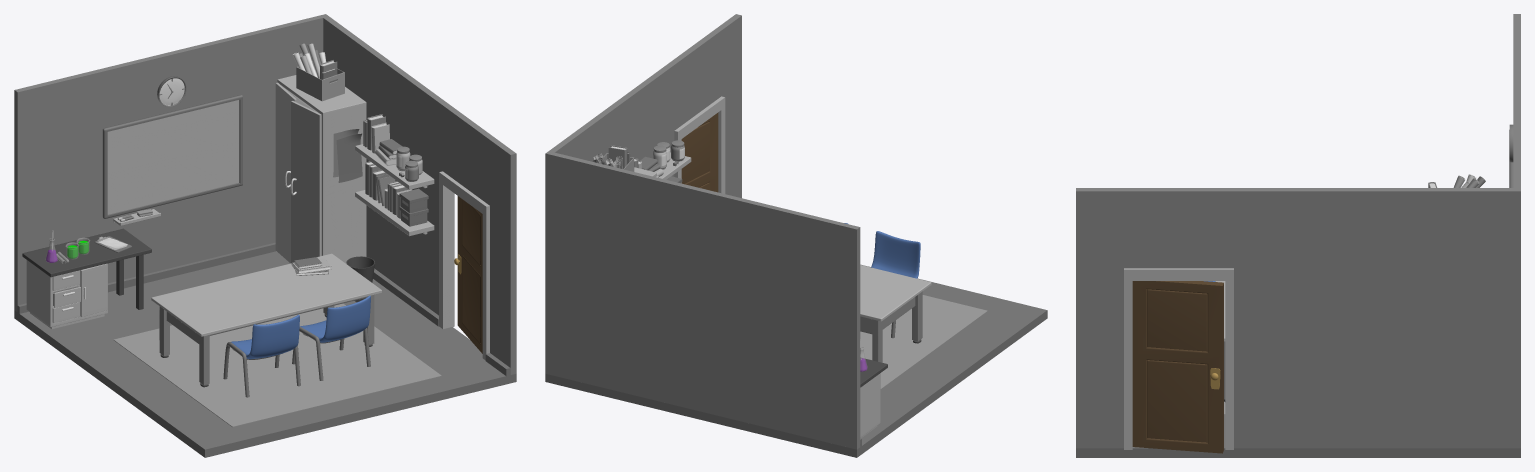
Rendered from Cuarto1.glb.
3 views of the same model, side by side, from view 1: azimuth 30°, elevation 25°; view 2: azimuth 150°, elevation 25°; view 3: azimuth 270°, elevation 25° (orthographic). The views are drawn at different scales.
Visible parts, largest first — view 1: Walls, Floor, Alfombra, Tablero (1), Mesa (1), Estructura, PuertaR (1), DoorFrame, Door, Top, PuertaL (1), Borde (+12 smaller); view 2: Walls, Floor, Alfombra, Mesa (1), Door, Silla (1), DoorFrame, Estructura (1), Estructura (2); view 3: Walls, Door, DoorFrame, Floor.
Boxes of the visible parts, x1,y1,x2,y2 form: Walls: (14,14,516,374); Floor: (14,251,516,457); Alfombra: (114,303,441,427); Tablero (1): (102,95,242,218); Mesa (1): (151,253,381,336); Estructura: (277,75,366,263); PuertaR (1): (291,101,321,263); DoorFrame: (439,171,489,360); Door: (457,196,482,353); Top: (22,228,151,309); PuertaL (1): (275,82,296,263); Borde: (17,242,510,375); Walls: (545,14,860,449); Floor: (545,264,1047,457); Alfombra: (860,295,987,389); Mesa (1): (860,265,931,321); Door: (681,112,718,192); Silla (1): (871,231,920,278); DoorFrame: (674,96,725,193); Estructura (1): (860,291,922,362); Estructura (2): (860,373,880,438); Walls: (1076,14,1520,448); Door: (1132,281,1223,453); DoorFrame: (1124,268,1233,449); Floor: (1076,415,1520,457).
Size of the model in its own units: 0.1323 by 0.0886 by 0.134.
